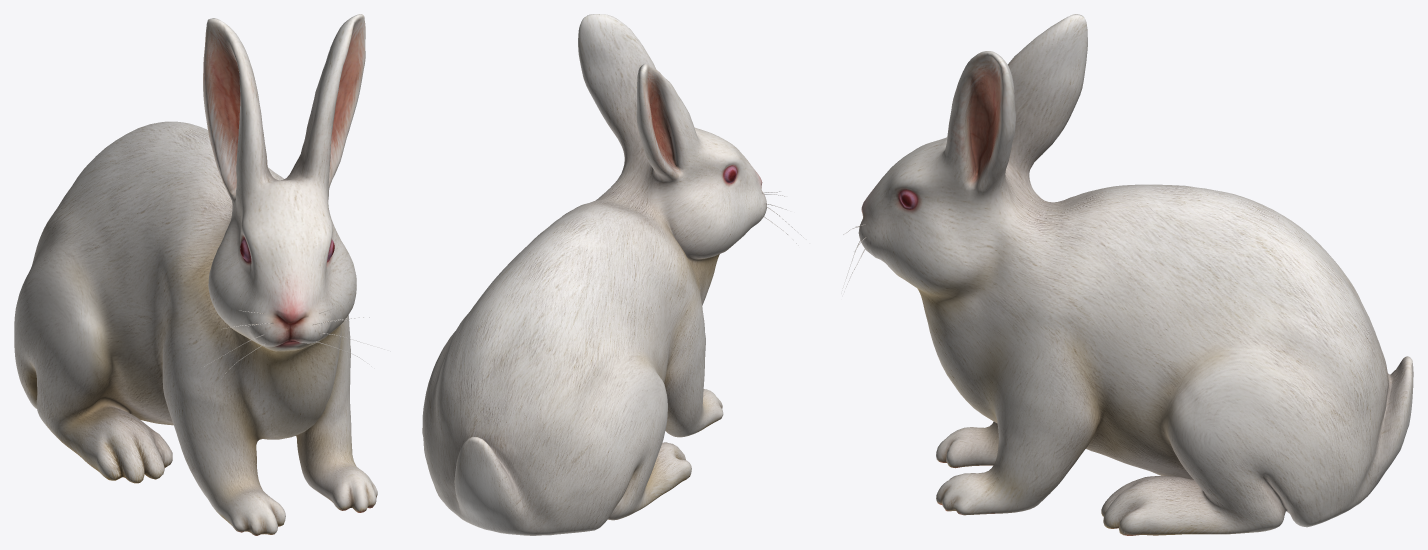
Rendered from rabbit.glb.
The picture shows the model from 3 angles, left to right: view 1: azimuth 30°, elevation 25°; view 2: azimuth 150°, elevation 25°; view 3: azimuth 270°, elevation 25°; orthographic projection. The views are drawn at different scales.
Parts seen in each view (by area): view 1: node_id30_1; view 2: node_id30_1; view 3: node_id30_1.
Part boxes in pixels (x1,y1,x2,y2): node_id30_1: [14, 14, 382, 535]; node_id30_1: [422, 14, 805, 535]; node_id30_1: [842, 14, 1413, 535].
Bounding box in the file's own units: 0.3068 × 0.512 × 0.5753.
1 material, 1 textured.
